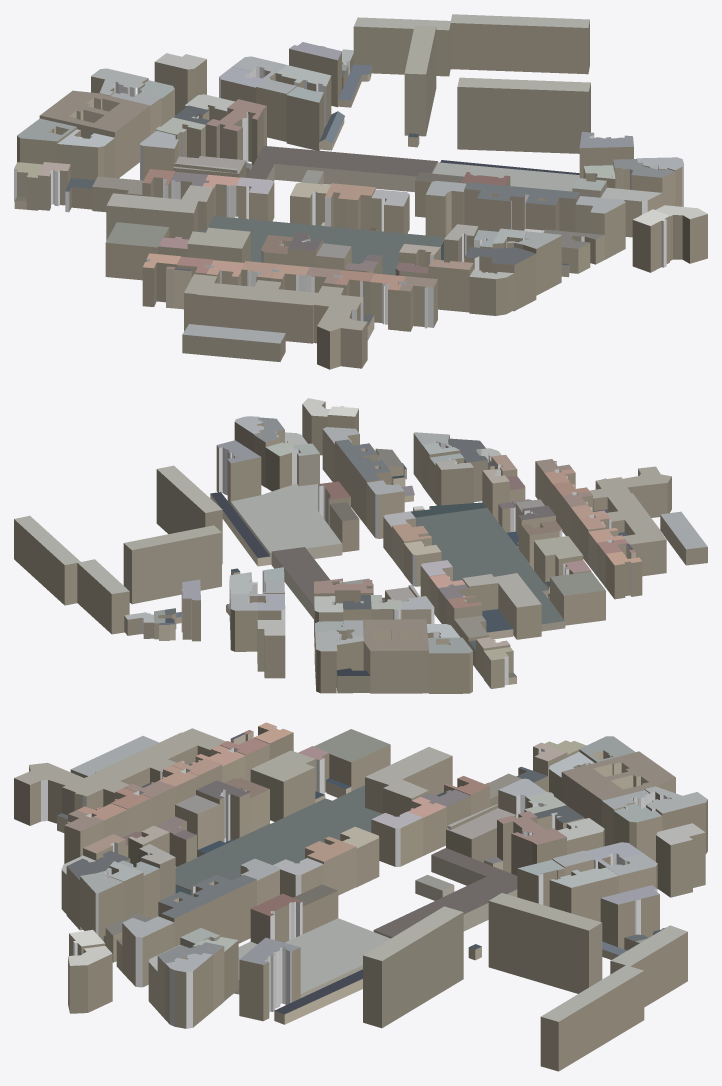
The picture shows the model from 3 angles, top to bottom: view 1: azimuth 30°, elevation 25°; view 2: azimuth 150°, elevation 25°; view 3: azimuth 270°, elevation 25°; orthographic projection. The views are drawn at different scales.
Parts seen in each view (by area): view 1: tuile; view 2: tuile; view 3: tuile.
Boxes of the visible parts, x1,y1,x2,y2 form: tuile: (14,14,707,369); tuile: (14,398,707,693); tuile: (14,722,707,1071).
Bounding box in the file's own units: 309 × 33.2 × 287.
